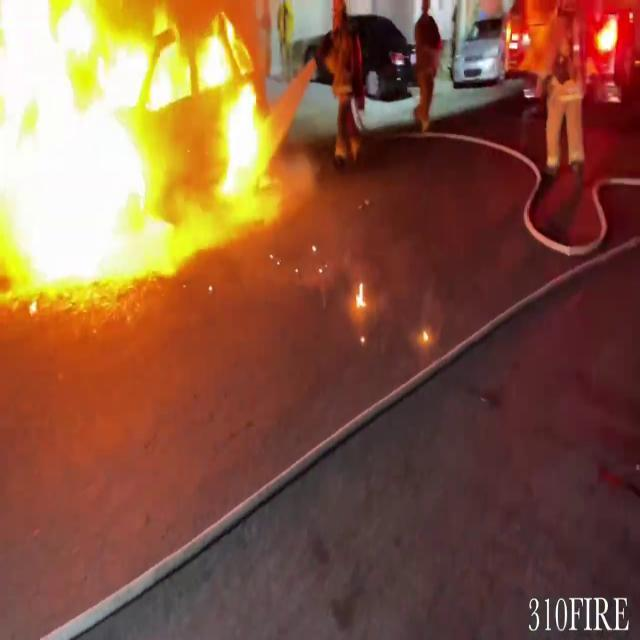Fire: (0, 0, 274, 303)
